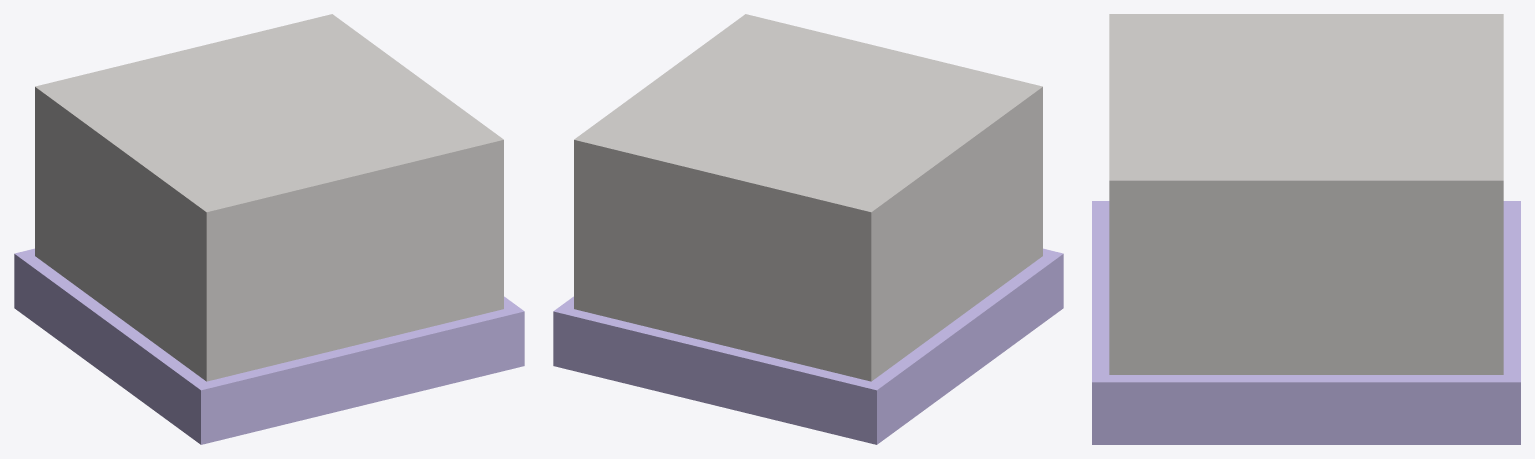
File: coelha_pascoa_manga_inf.glb
3 views of the same model, side by side, from view 1: azimuth 30°, elevation 25°; view 2: azimuth 150°, elevation 25°; view 3: azimuth 270°, elevation 25° (orthographic). The views are drawn at different scales.
Visible parts, largest first — view 1: coelha_pascoa_manga_inf; view 2: coelha_pascoa_manga_inf; view 3: coelha_pascoa_manga_inf.
Part boxes in pixels (x1,y1,x2,y2): coelha_pascoa_manga_inf: (14, 14, 524, 444); coelha_pascoa_manga_inf: (553, 14, 1063, 444); coelha_pascoa_manga_inf: (1092, 14, 1520, 444).
Bounding box in the file's own units: 0.31 × 0.21 × 0.31.
